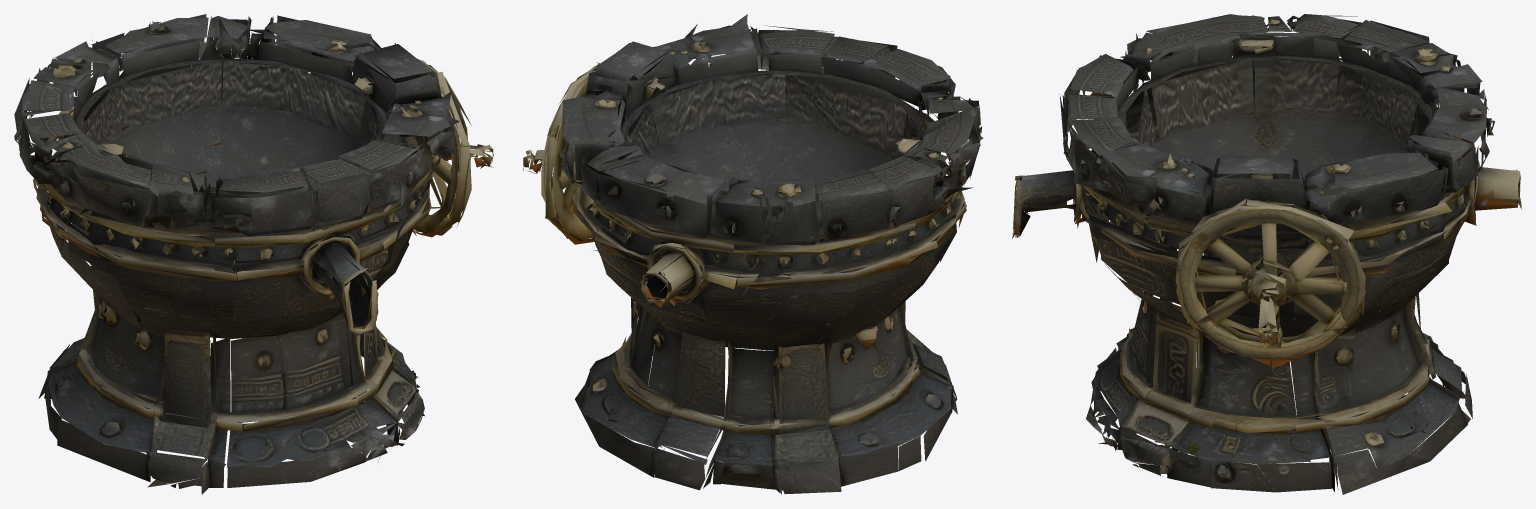
The model's file is ch2_hydraulic_cistern_valve_LOD2.glb.
The picture shows the model from 3 angles, left to right: view 1: azimuth 30°, elevation 25°; view 2: azimuth 150°, elevation 25°; view 3: azimuth 270°, elevation 25°; orthographic projection. The views are drawn at different scales.
Parts seen in each view (by area): view 1: tripo_node_84130d39-5f79-4c77-8b50-4e8281992308; view 2: tripo_node_84130d39-5f79-4c77-8b50-4e8281992308; view 3: tripo_node_84130d39-5f79-4c77-8b50-4e8281992308.
Boxes of the visible parts, x1=… form: tripo_node_84130d39-5f79-4c77-8b50-4e8281992308: x1=14, y1=14, x2=493, y2=494; tripo_node_84130d39-5f79-4c77-8b50-4e8281992308: x1=523, y1=14, x2=983, y2=494; tripo_node_84130d39-5f79-4c77-8b50-4e8281992308: x1=1012, y1=14, x2=1521, y2=494.
Size of the model in its own units: 1.01 by 0.7065 by 0.9954.
1 material, 1 textured.
